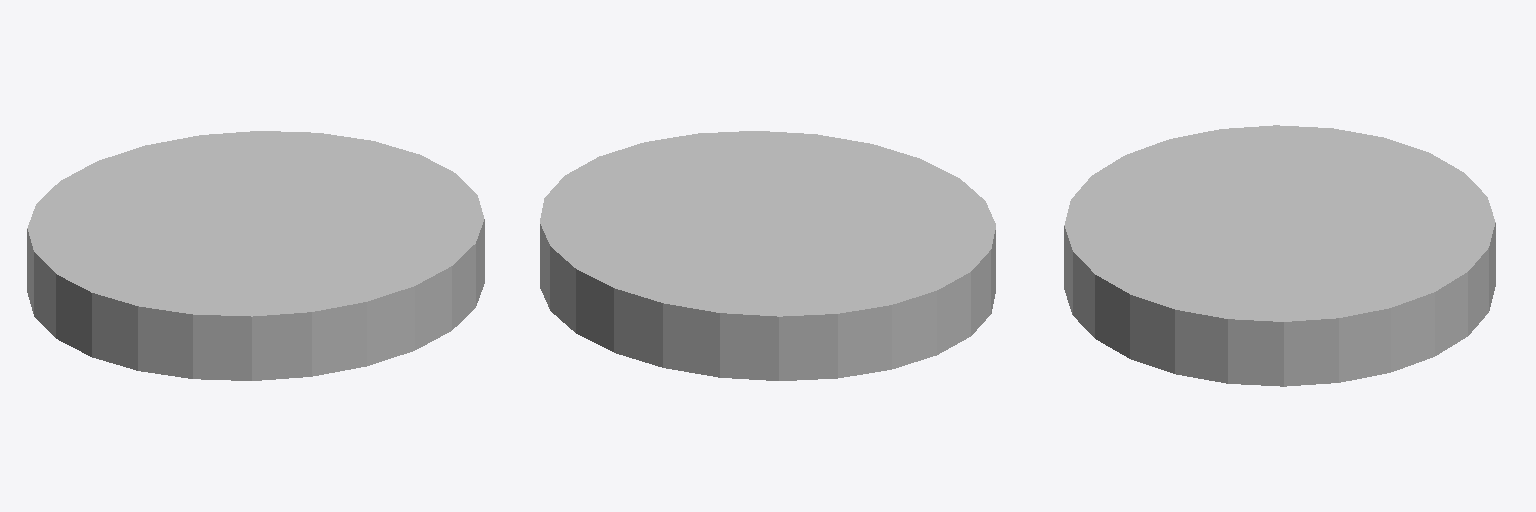
Rendered from original-21.obj.
The picture shows the model from 3 angles: view 1: azimuth 30°, elevation 25°; view 2: azimuth 150°, elevation 25°; view 3: azimuth 270°, elevation 25°; orthographic projection.
Parts seen in each view (by area): view 1: Group21/mesh16/mesh16-geometry#mesh16-geometry; view 2: Group21/mesh16/mesh16-geometry#mesh16-geometry; view 3: Group21/mesh16/mesh16-geometry#mesh16-geometry.
Part boxes in pixels (bbox=[...]): Group21/mesh16/mesh16-geometry#mesh16-geometry: bbox=[27, 131, 484, 380]; Group21/mesh16/mesh16-geometry#mesh16-geometry: bbox=[540, 131, 995, 380]; Group21/mesh16/mesh16-geometry#mesh16-geometry: bbox=[1064, 125, 1495, 386].
Bounding box in the file's own units: 0.0561 × 0.0086 × 0.052.